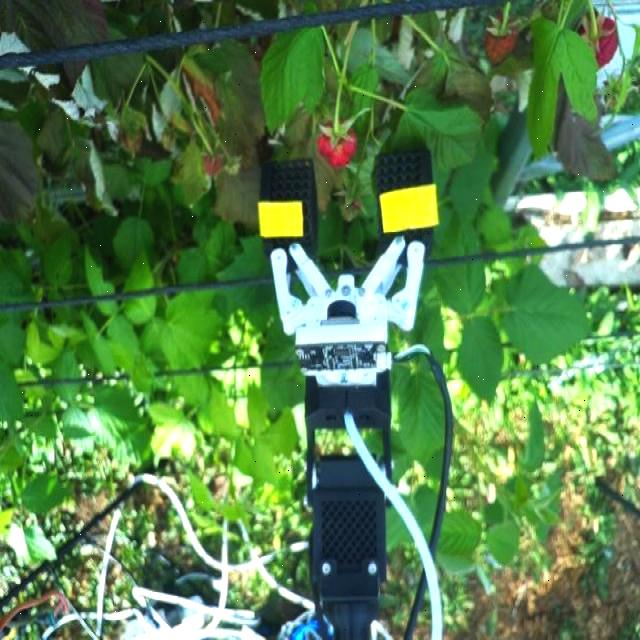Riped berries: (314, 118, 358, 170), (583, 17, 620, 73), (484, 13, 519, 64)
